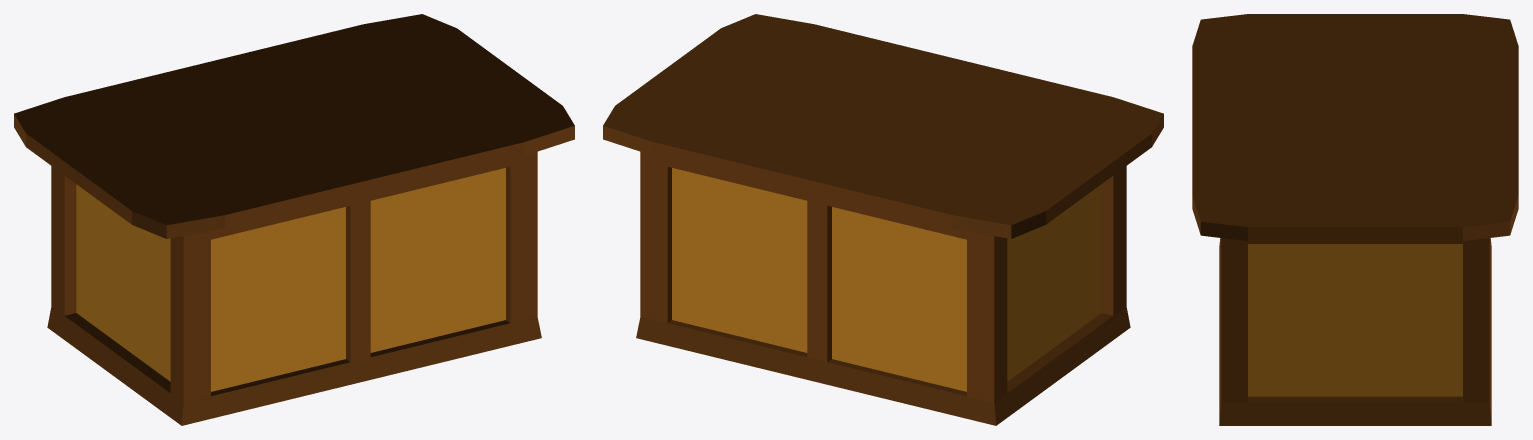
File: Desk 10.fbx
3 views of the same model, side by side, from view 1: azimuth 30°, elevation 25°; view 2: azimuth 150°, elevation 25°; view 3: azimuth 270°, elevation 25° (orthographic).
Visible parts, largest first — view 1: Node 0; view 2: Node 0; view 3: Node 0.
Part boxes in pixels (x1=…): Node 0: x1=14, y1=14, x2=574, y2=425; Node 0: x1=603, y1=14, x2=1163, y2=425; Node 0: x1=1192, y1=14, x2=1518, y2=425.
Size of the model in its own units: 1.25 by 0.9123 by 1.93.
